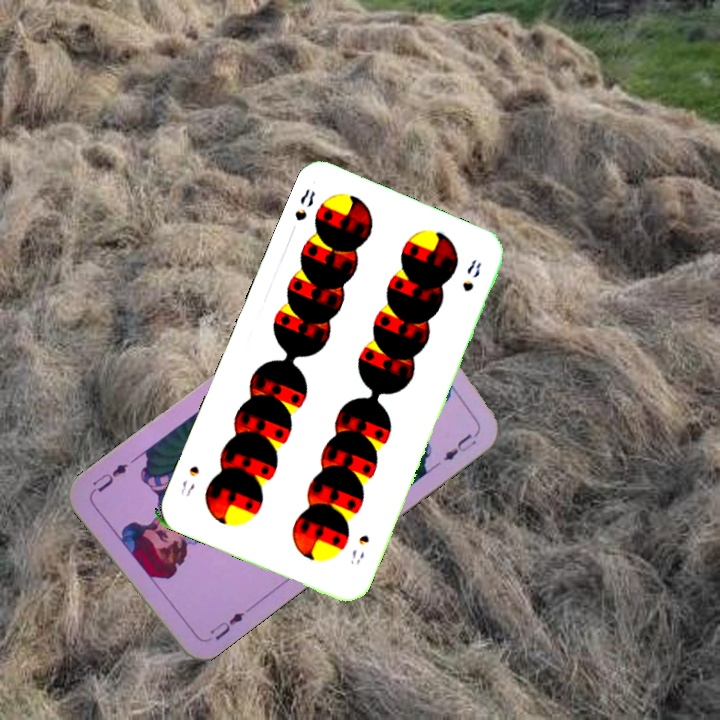EU: (202, 607, 247, 645)
S8: (290, 184, 318, 224), (345, 531, 372, 567)
